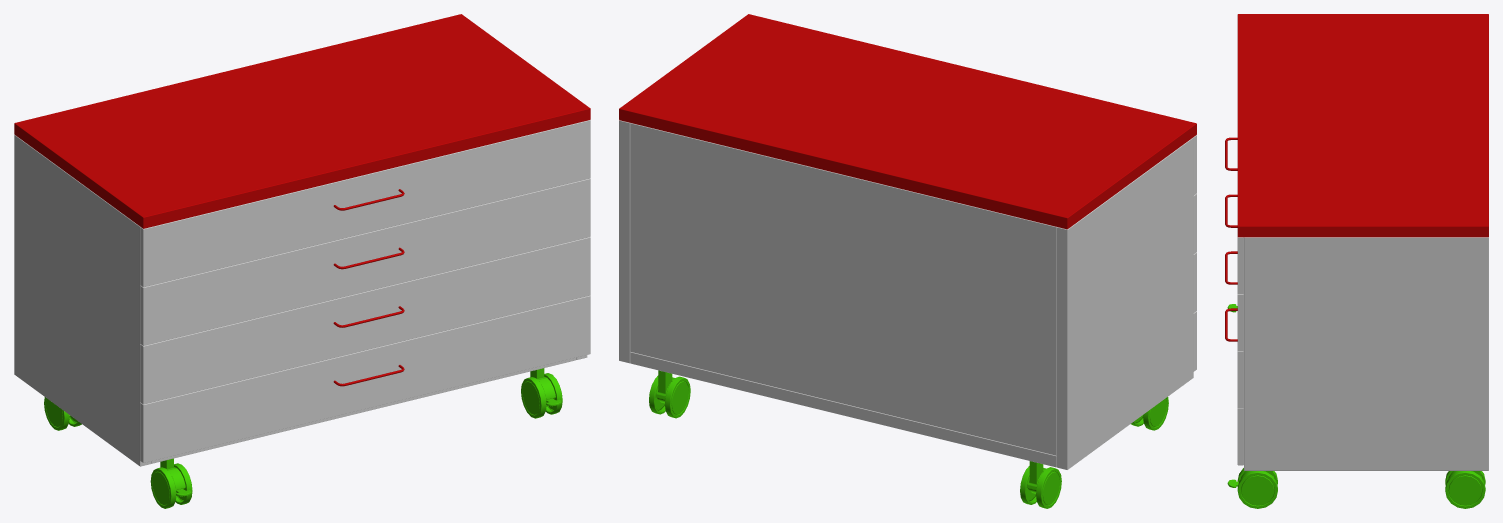
Rendered from UnderBench02.fbx.
3 renders of one model, left to right at view 1: azimuth 30°, elevation 25°; view 2: azimuth 150°, elevation 25°; view 3: azimuth 270°, elevation 25°, orthographic. The views are drawn at different scales.
Visible parts, largest first — view 1: UnderBench02, Drawer02, Drawer03, Drawer01, Drawer04; view 2: UnderBench02; view 3: UnderBench02, Drawer03, Drawer04, Drawer01, Drawer02.
Part boxes in pixels (<box>): UnderBench02: <box>14,14,590,508</box>; Drawer02: <box>140,178,590,345</box>; Drawer03: <box>140,237,590,404</box>; Drawer01: <box>140,120,590,287</box>; Drawer04: <box>140,295,590,462</box>; UnderBench02: <box>619,14,1196,508</box>; UnderBench02: <box>1227,14,1488,508</box>; Drawer03: <box>1225,251,1243,408</box>; Drawer04: <box>1225,308,1243,465</box>; Drawer01: <box>1225,137,1243,294</box>; Drawer02: <box>1225,194,1243,351</box>.
Size of the model in its own units: 100 by 52.5 by 65.
